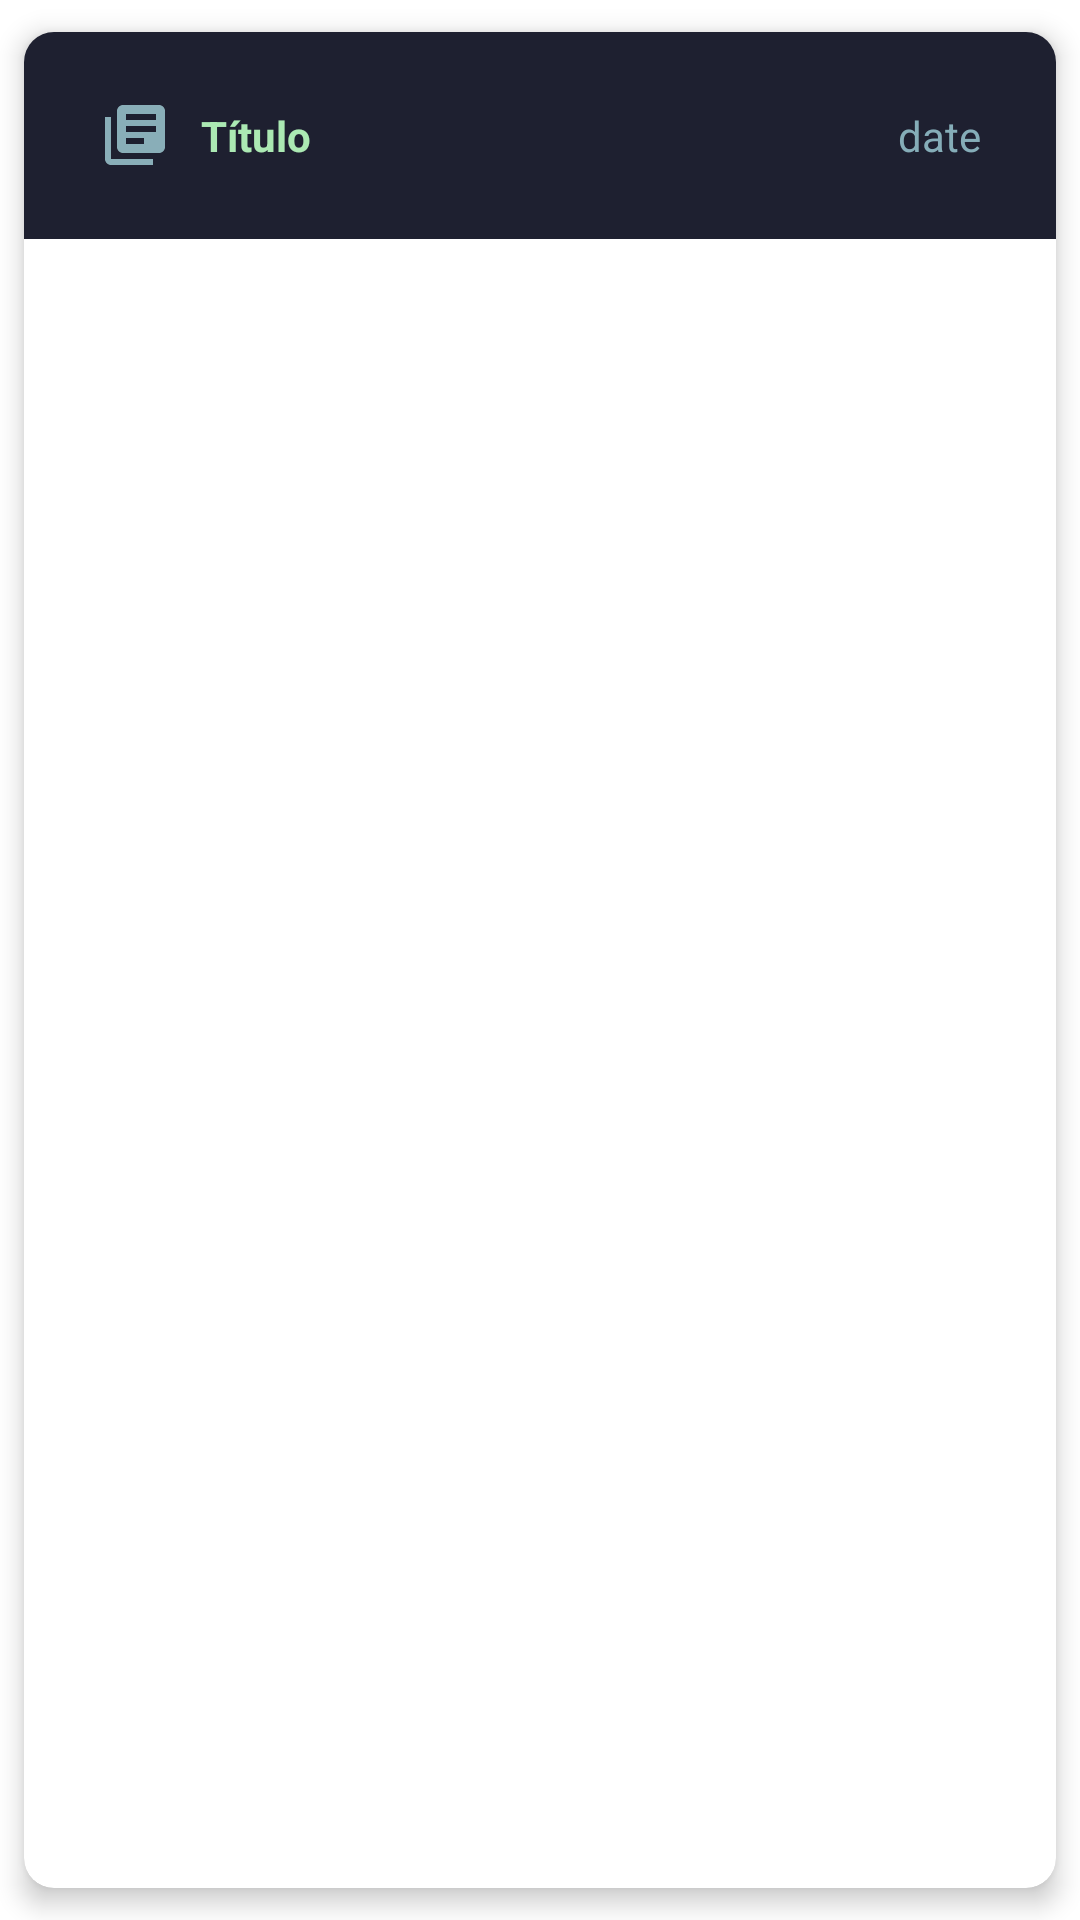

Icons on this 1080x1920 Android screen, each with the point to tap as (x,y):
basic note: (135,135)
